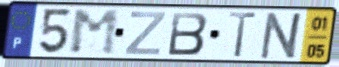5: (38, 6, 75, 56)
B: (166, 10, 210, 57)
M: (68, 8, 121, 57)
N: (257, 10, 307, 61)
T: (226, 10, 260, 60)
Z: (122, 10, 169, 57)
